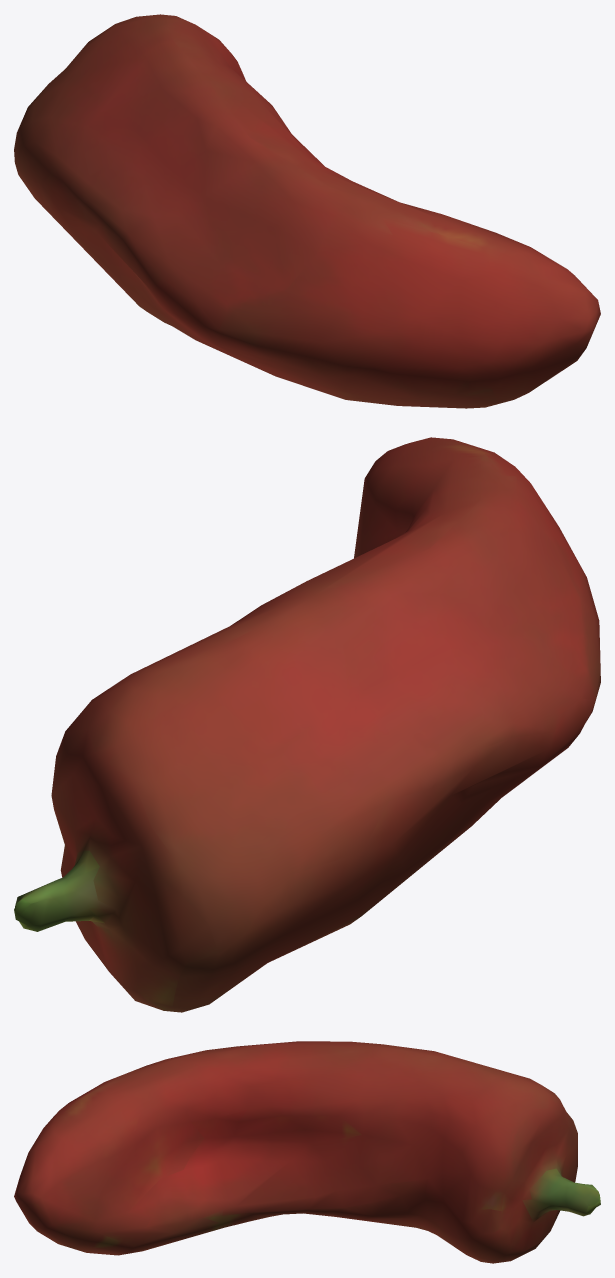
File: SM_Food_SM_Pepper_04.fbx
The picture shows the model from 3 angles, top to bottom: view 1: azimuth 30°, elevation 25°; view 2: azimuth 150°, elevation 25°; view 3: azimuth 270°, elevation 25°; orthographic projection. The views are drawn at different scales.
Visible parts, largest first — view 1: SM_Food_SM_Pepper_04_LOD0; view 2: SM_Food_SM_Pepper_04_LOD0; view 3: SM_Food_SM_Pepper_04_LOD0.
Part boxes in pixels (left/top/right/bottom): SM_Food_SM_Pepper_04_LOD0: left=14, top=14, right=600, bottom=408; SM_Food_SM_Pepper_04_LOD0: left=14, top=437, right=600, bottom=1012; SM_Food_SM_Pepper_04_LOD0: left=14, top=1041, right=600, bottom=1263.
Size of the model in its own units: 5.56 by 12.52 by 4.7.
1 material, 1 textured.
